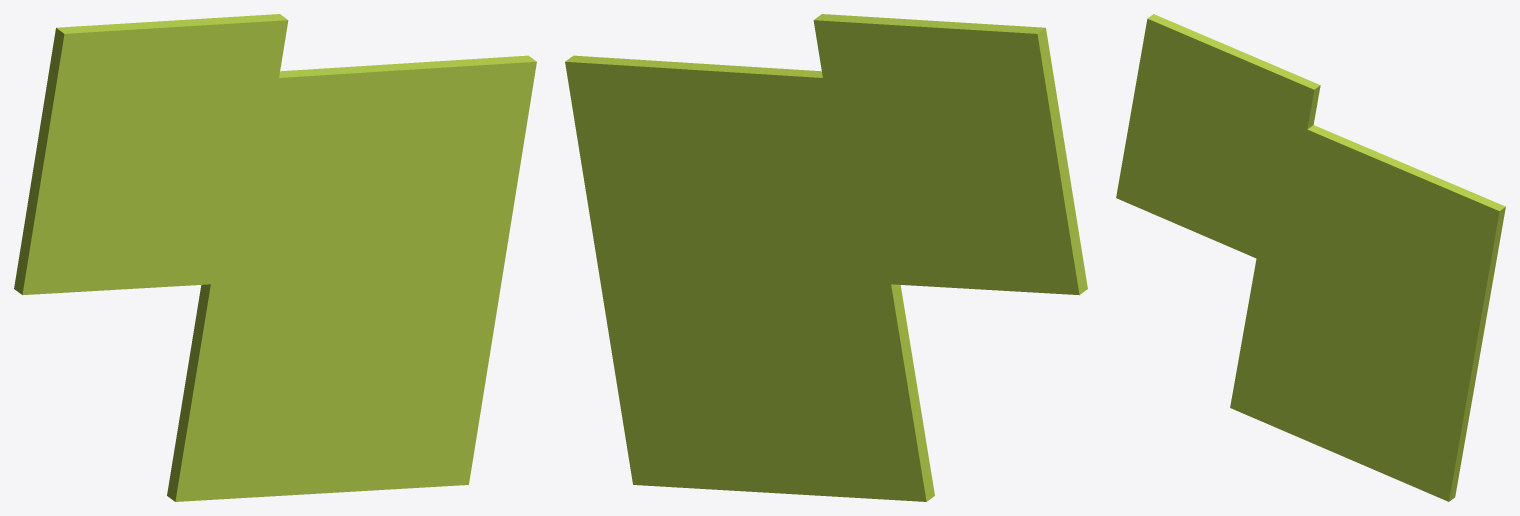
3 renders of one model, left to right at view 1: azimuth 30°, elevation 25°; view 2: azimuth 150°, elevation 25°; view 3: azimuth 330°, elevation 25°, orthographic. The views are drawn at different scales.
Visible parts, largest first — view 1: osm-way27917482-F1; view 2: osm-way27917482-F1; view 3: osm-way27917482-F1.
Boxes of the visible parts, x1=… form: osm-way27917482-F1: x1=14, y1=14, x2=536, y2=501; osm-way27917482-F1: x1=565, y1=14, x2=1087, y2=501; osm-way27917482-F1: x1=1116, y1=14, x2=1505, y2=501.
Size of the model in its own units: 5.27 by 5.38 by 0.15.
